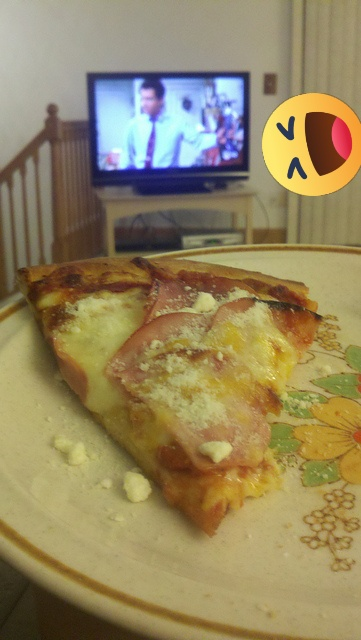haha: (262, 93, 361, 196)
